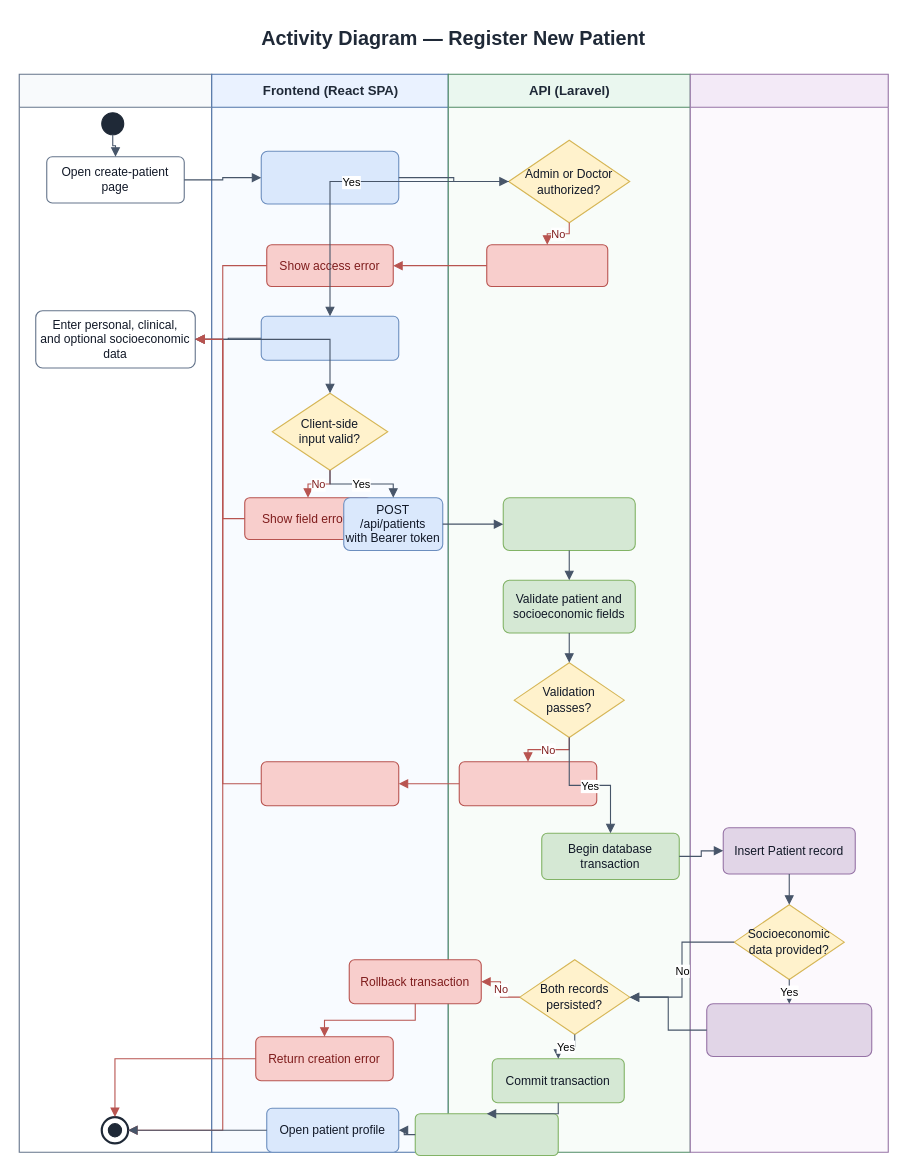
This 908x1175 diagram has some shape labels left out. The box of each missing label's shape, as (x1, y1, x2, y2) in pixels:
201 PatientResource: (414, 1113, 558, 1156)
403 Forbidden: (486, 244, 608, 287)
422 validation errors: (458, 761, 597, 806)
Admin / Doctor: (18, 73, 212, 1152)
Authorize request Admin / Doctor: (502, 497, 635, 551)
Create or update PatientSocioeconomic: (706, 1003, 872, 1057)
Database: (689, 73, 888, 1152)
Display patient form: (260, 315, 399, 360)
Navigate to /patients/create: (260, 150, 399, 204)
Show validation errors: (260, 761, 399, 806)
